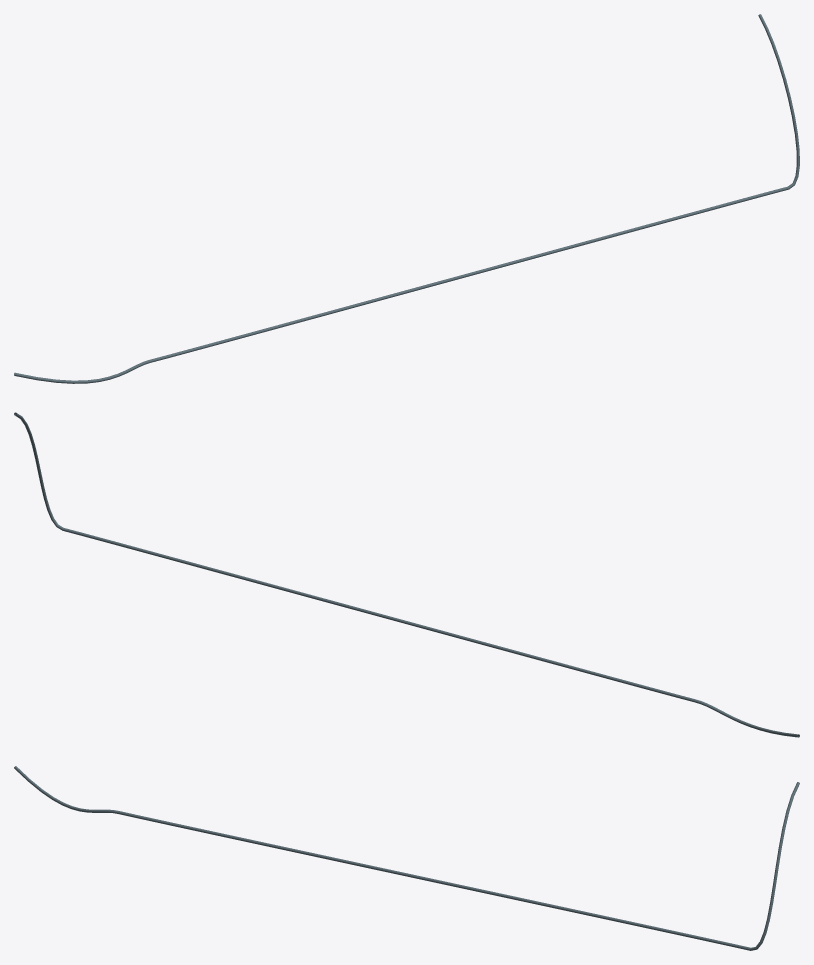
File: ElecWire10.fbx
3 renders of one model, top to bottom at view 1: azimuth 30°, elevation 25°; view 2: azimuth 150°, elevation 25°; view 3: azimuth 330°, elevation 25°, orthographic.
Parts seen in each view (by area): view 1: ElecWire10_LOD0; view 2: ElecWire10_LOD0; view 3: ElecWire10_LOD0.
Boxes of the visible parts, x1,y1,x2,y2 form: ElecWire10_LOD0: (14,14,799,383); ElecWire10_LOD0: (14,412,799,737); ElecWire10_LOD0: (14,766,799,950).
Size of what is drawn, in the model's own units: 660 by 139 by 58.86.
